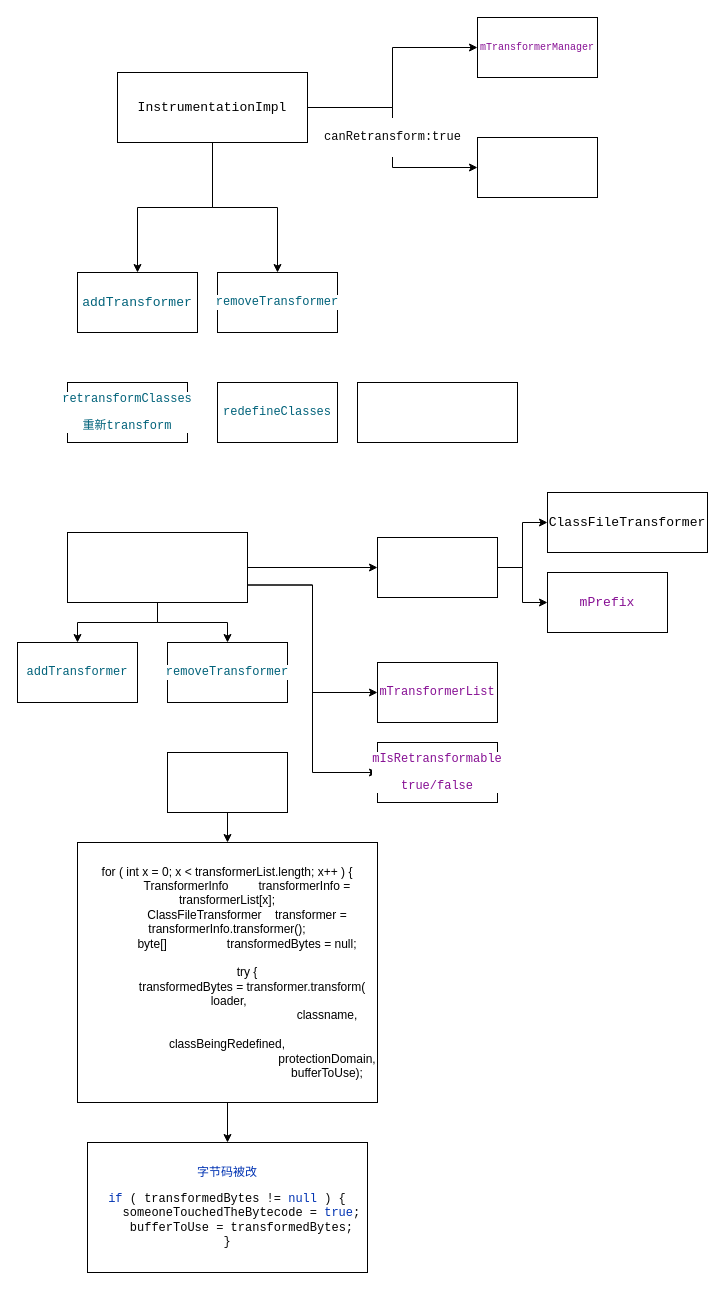
The diagram is 725 pixels wide and 1290 high, and some of its shapes have lost their labels. The shapes that lost their labels are listed below. From the top down, each one's centre as x and y in pixels, then its label:
the point at 537,167: mRetransfomableTransformerManager
the point at 437,412: findTransformerManager
the point at 157,567: TransformerManager
the point at 437,567: TransformerInfo
the point at 227,782: transform
